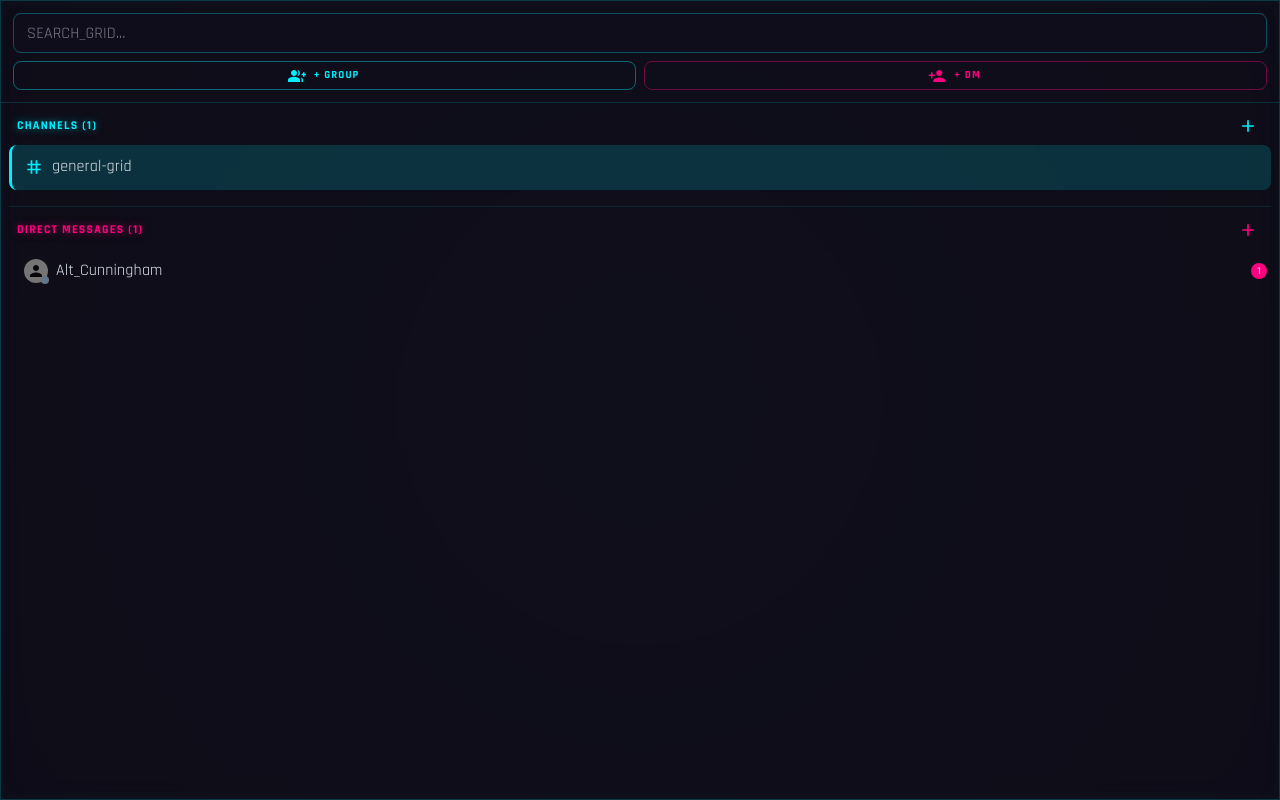
Test: Sidebar Unit Tests › filters list based on search term
Type "general" into the field with placeholder "SEARCH_GRID..." at (640, 33), box [13,13,1267,53]
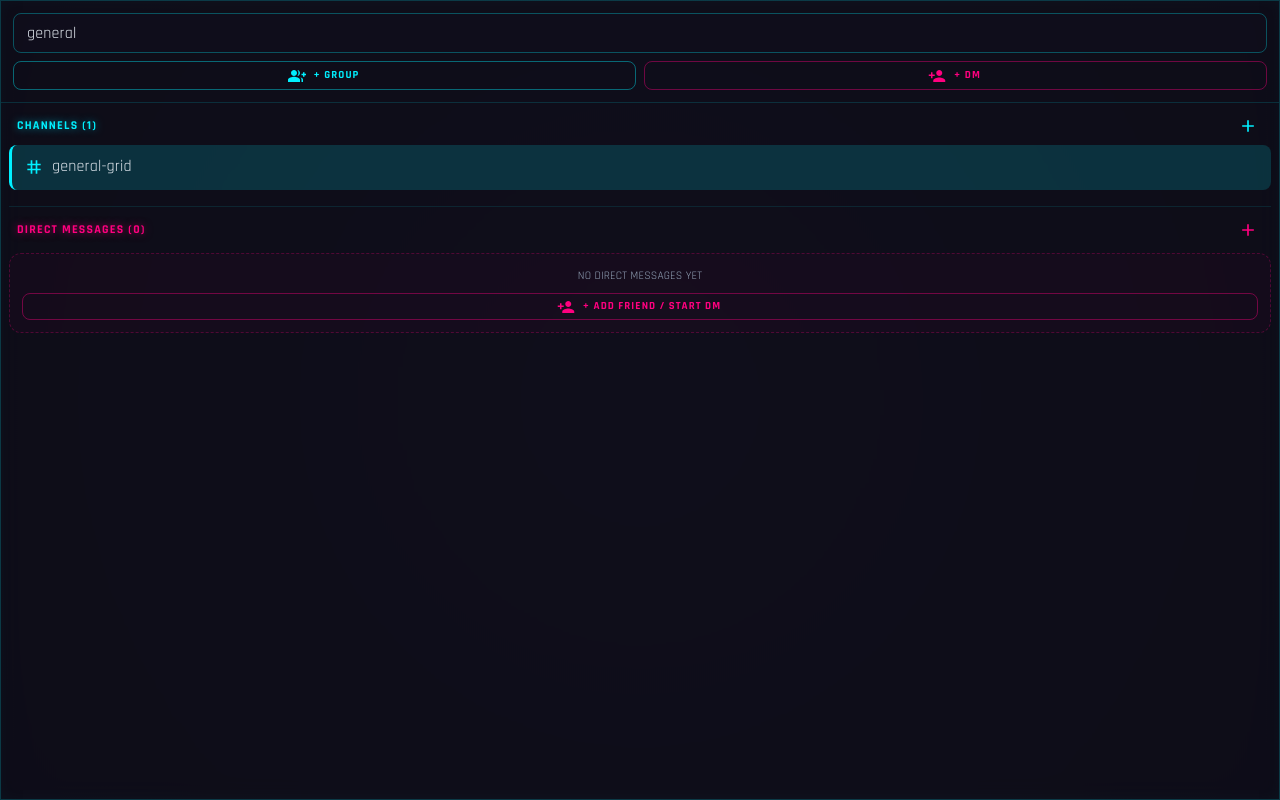
Expected: the text "general-grid" is shown, [52,156,132,177]
Now the button "Alt_Cunningham" is gone
